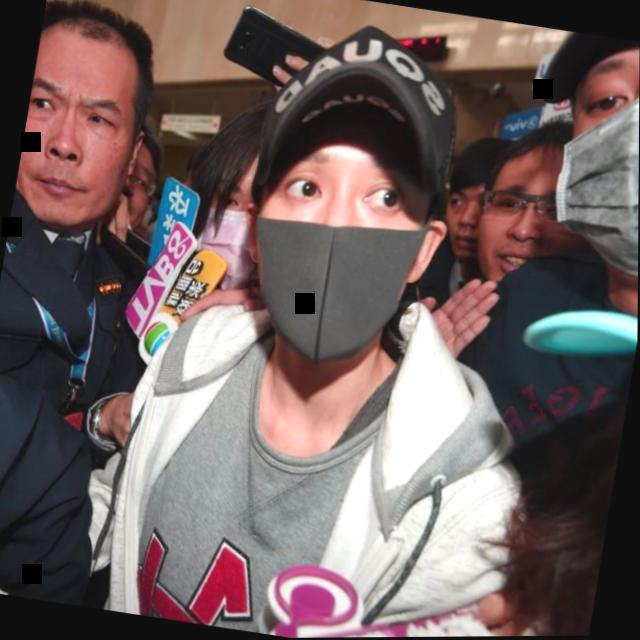Mask: (222, 27, 473, 385), (520, 30, 640, 299), (170, 96, 280, 302)
NO-Mask: (10, 0, 165, 245), (473, 116, 583, 300), (436, 127, 509, 274)
